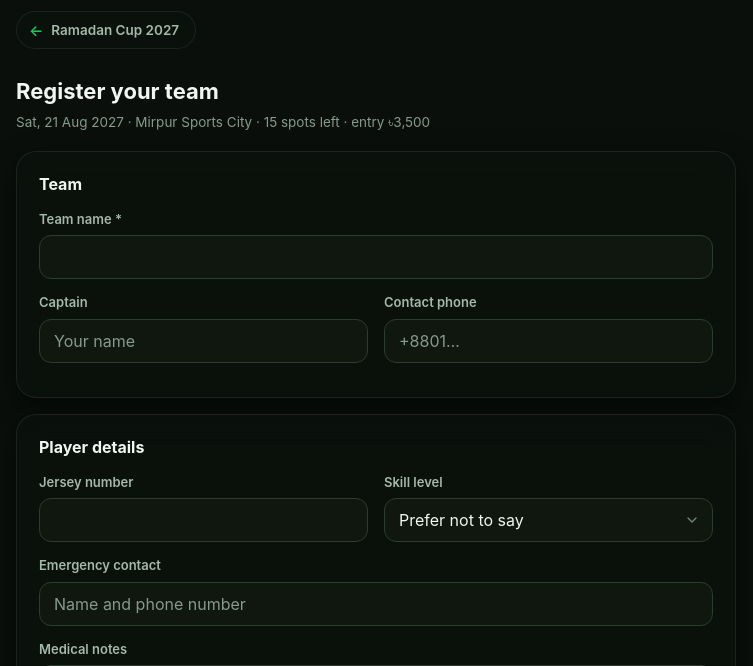
TournamentRegisterPage › submits the team name to the register endpoint
Expected: the heading "Register your team" is shown, x1=16 y1=78 x2=219 y2=104
Type "Dhanmondi Strikers" into the field labelled "Team name *" at coordinates (376, 257), box x1=39 y1=235 x2=713 y2=279
(page scrolled)
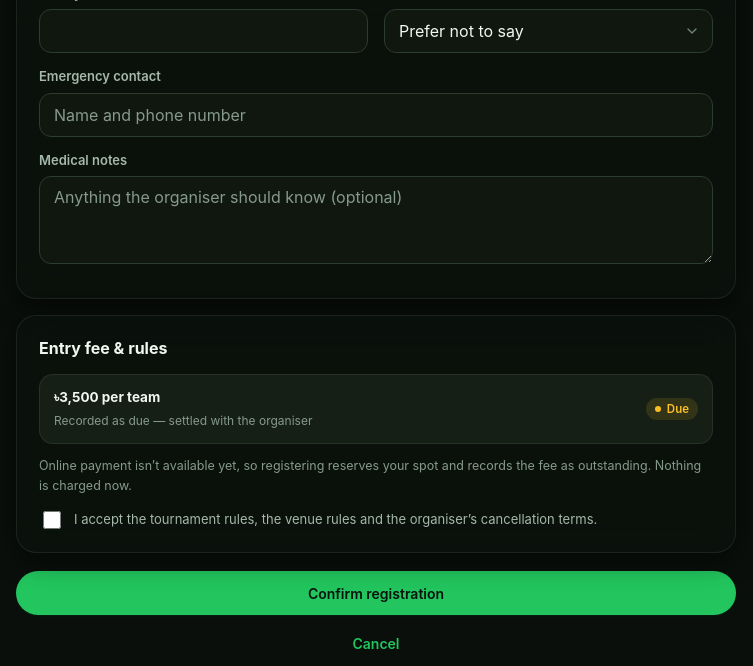
Click the checkbox labelled "rules" at coordinates (52, 520), box x1=43 y1=511 x2=61 y2=529
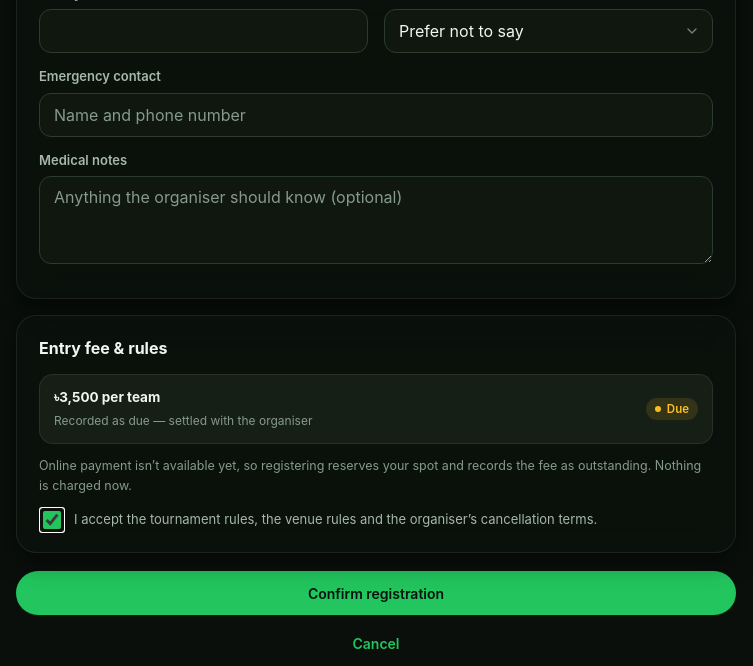
Click the button "Confirm registration" at coordinates (376, 593), box x1=16 y1=571 x2=736 y2=615
(page scrolled)
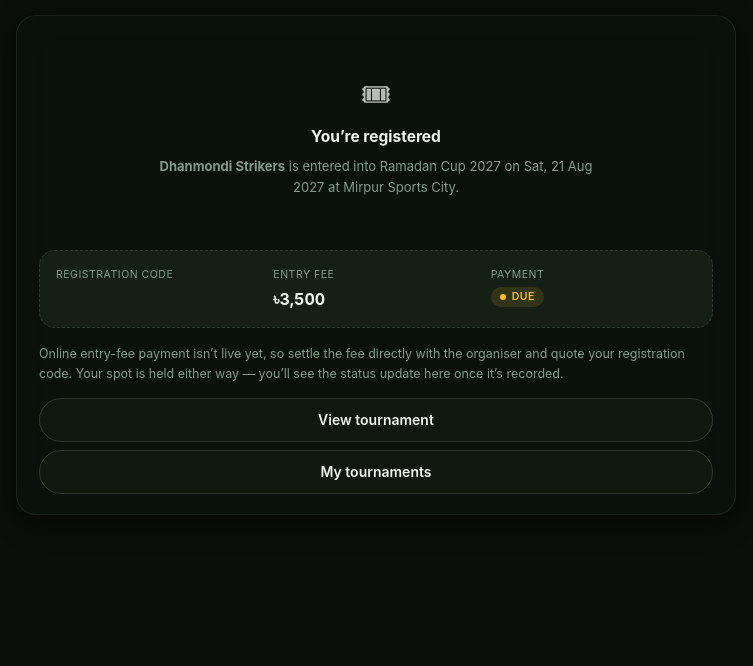
Result: the text "Dhanmondi Strikers" is shown at x1=160 y1=158 x2=285 y2=174
